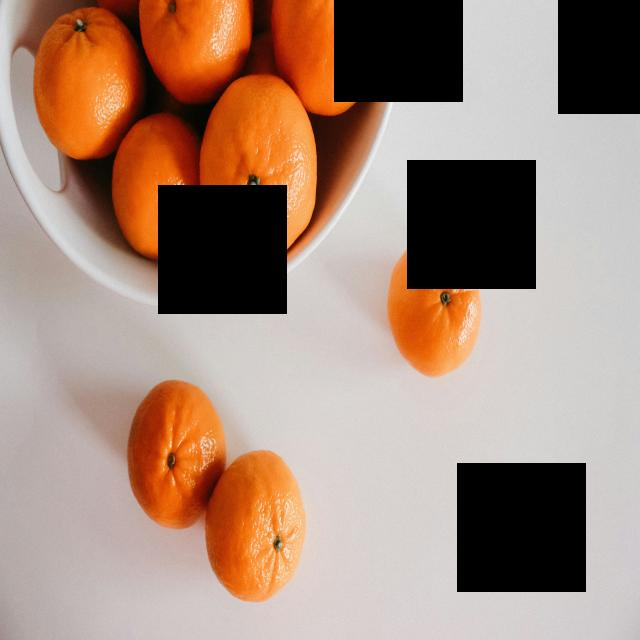tangerine: (200, 74, 317, 259), (33, 7, 148, 160), (205, 449, 305, 602), (128, 380, 226, 531), (112, 111, 206, 261), (388, 238, 482, 377), (271, 1, 382, 116), (138, 0, 253, 104)
